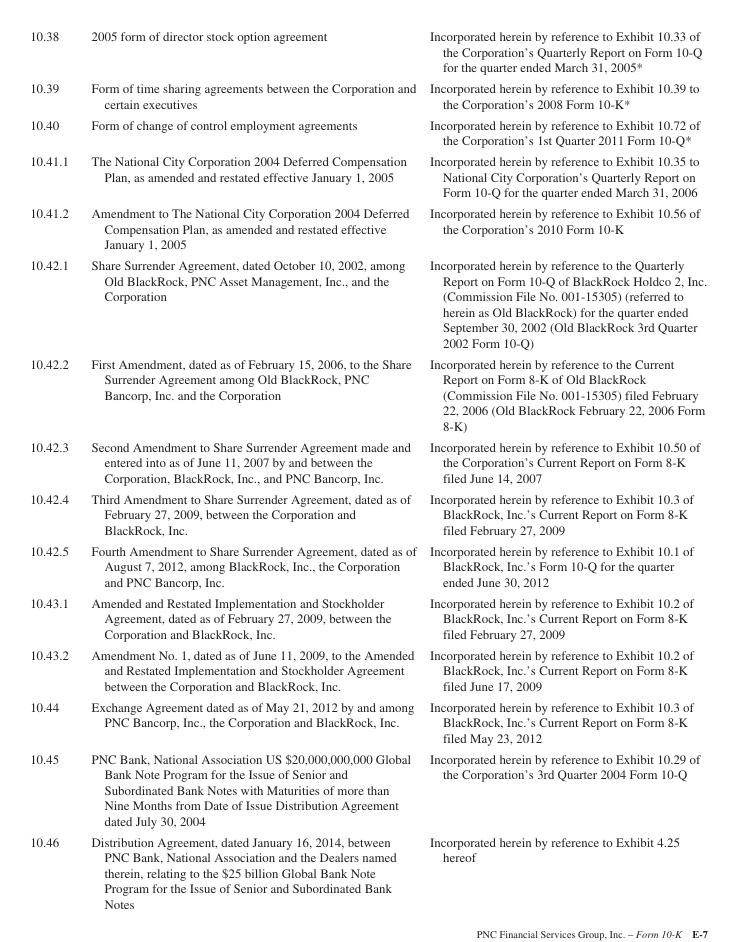table: (29, 28, 706, 910)
table column: (79, 28, 422, 910), (422, 28, 706, 910), (29, 28, 79, 910)
table column header: (29, 28, 706, 77)
table row: (29, 254, 706, 352), (29, 352, 706, 435), (29, 747, 706, 830), (29, 830, 706, 910), (29, 150, 706, 202), (29, 202, 706, 254), (29, 435, 706, 487), (29, 487, 706, 539), (29, 539, 706, 591), (29, 591, 706, 643), (29, 643, 706, 695), (29, 695, 706, 747), (29, 28, 706, 77), (29, 113, 706, 150), (29, 77, 706, 113)
